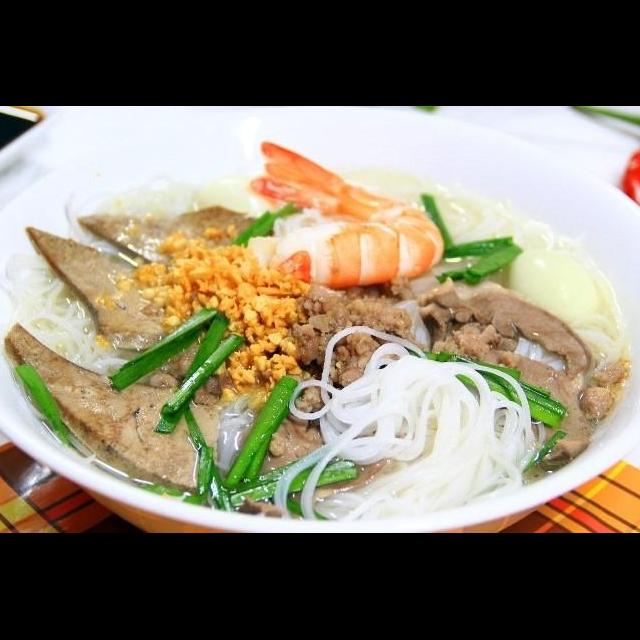banh hu tieu: (266, 324, 550, 526), (0, 248, 155, 382)
gan: (0, 319, 223, 499), (19, 224, 218, 356), (68, 202, 280, 272)
hu tieu: (0, 140, 640, 531), (204, 384, 268, 484)
thit bam: (276, 278, 430, 431), (418, 312, 524, 376), (572, 352, 632, 426)
tom: (233, 138, 447, 294)
